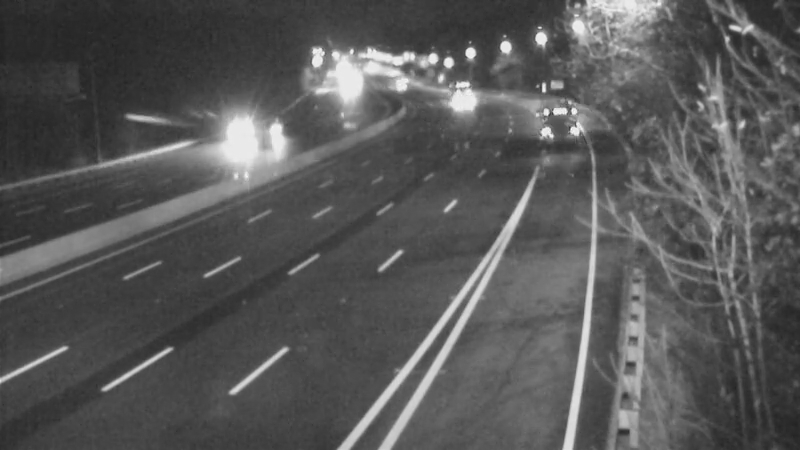vehicle: (430, 63, 480, 113), (440, 77, 490, 127), (516, 82, 566, 132), (210, 111, 260, 161), (245, 112, 295, 162)
